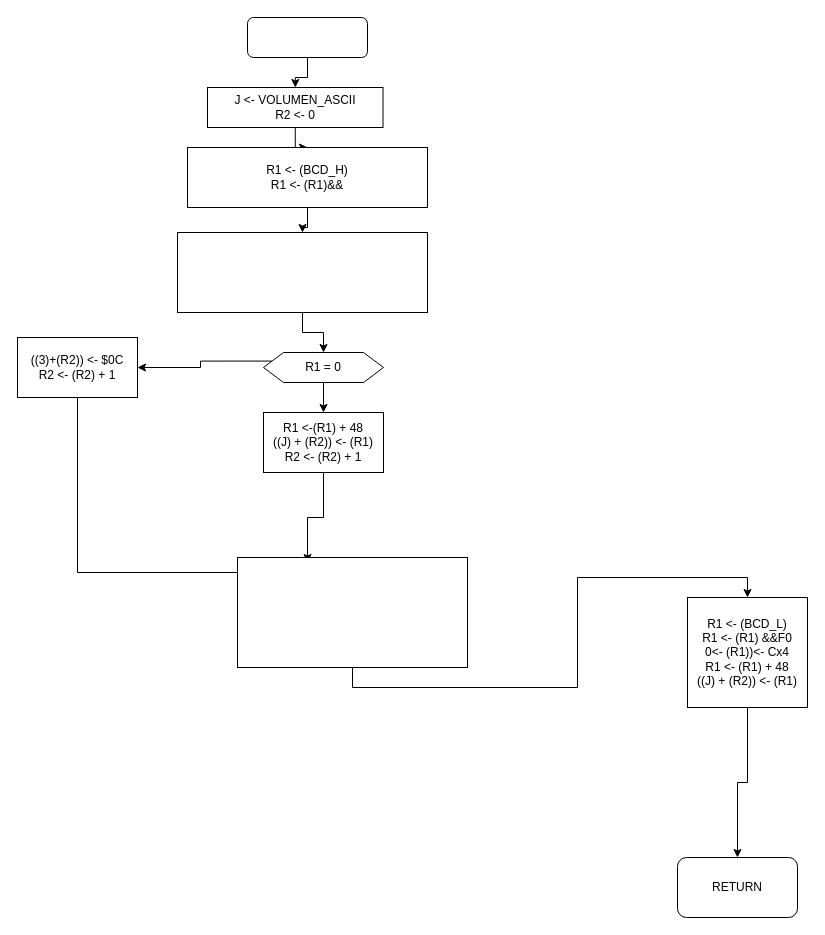
This 825x935 diagram has some shape labels left out. Each missing label, with the box of its shape:
BCD_ASCII: (246, 16, 368, 58)
R1 <- (BCD_L) R1 <- (R1)&&$F0 0 <- (R1) + 48 ((J)+(R2)) <- (R1) R2 <- (R2) + 1: (236, 556, 468, 668)
R1 <- (R1) + 48 ((J) + (R2) <- (R1) R2 <- (R2) + 1: (176, 232, 428, 312)
